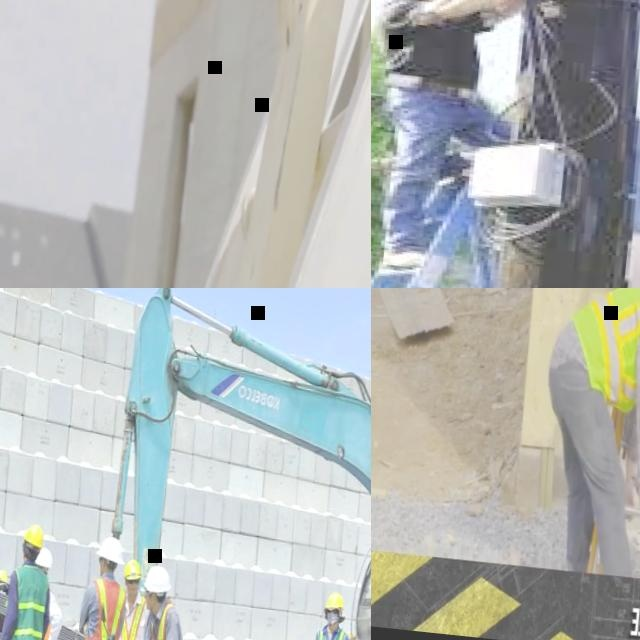Hardhat: (95, 534, 124, 564), (141, 564, 170, 592), (121, 559, 142, 581), (22, 524, 42, 547), (32, 548, 52, 570), (324, 591, 345, 610), (0, 568, 8, 585)
Mask: (324, 614, 338, 626)
NO-Mask: (142, 597, 156, 611), (127, 583, 139, 597), (96, 566, 104, 575)
NO-Safety Vest: (382, 0, 483, 84)
Person: (371, 0, 556, 281), (525, 288, 640, 586), (57, 531, 133, 640), (0, 520, 58, 640), (117, 564, 199, 640), (8, 547, 70, 640), (99, 556, 155, 640), (282, 586, 357, 640)
Safety Vest: (562, 288, 640, 408), (3, 561, 50, 640), (78, 574, 126, 640), (141, 596, 193, 640), (112, 588, 148, 640), (33, 619, 56, 640)
machinery: (82, 288, 371, 640)
